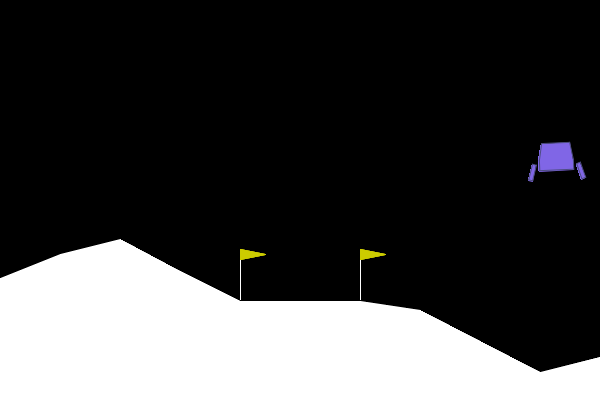lander: (525, 140, 587, 183)
